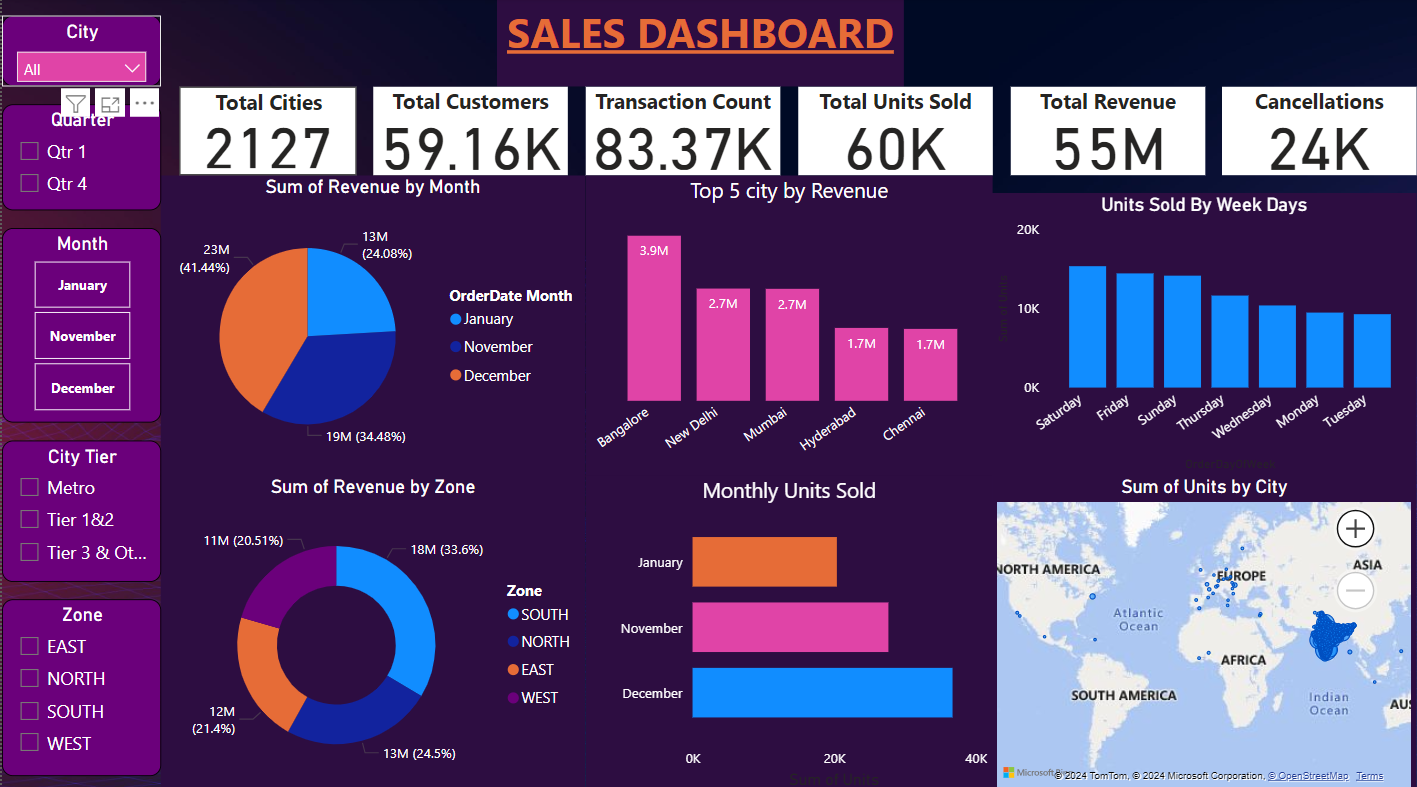

This screenshot's page, from the dashboard's own definition file:
{"tool":"powerbi","page":{"name":"Page 1","canvas":[1280,720],"ordinal":0},"visuals":[{"type":"textbox","box":[448,0,368,80],"z":0},{"type":"pieChart","fields":{"Y":["Sum(Sales Raw.Revenue)"],"Category":["Sales Raw.OrderDate.Variation.Date Hierarchy.Month"]},"box":[144,160,384,272],"z":1000},{"type":"columnChart","title":"Top 5 city by Revenue","fields":{"Y":["Sum(Sales Raw.Revenue)"],"Category":["Mod3_Raw_CityTier_v0 1.City"]},"box":[528,160,368,272],"z":2000},{"type":"card","title":"Total Units Sold","fields":{"Values":["Sum(Sales Raw.Net_Units)"]},"box":[720,80,176,80],"z":3000},{"type":"card","title":"Total Customers","fields":{"Values":["Count(Sales Raw.UserId)"]},"box":[336,80,176,80],"z":4000},{"type":"card","title":"Total Revenue","fields":{"Values":["Sum(Sales Raw.Revenue)"]},"box":[912,80,176,80],"z":5000},{"type":"card","title":"Cancellations","fields":{"Values":["Sum(Sales Raw.Cancelled_Units)"]},"box":[1104,80,176,80],"z":6000},{"type":"donutChart","fields":{"Category":["PinCode-Geo.Zone"],"Y":["Sum(Sales Raw.Revenue)"]},"box":[144,432,384,288],"z":7000},{"type":"map","fields":{"Category":["PinCode-Geo.City"],"Size":["Sum(Sales Raw.Units)"]},"box":[896,432,384,288],"z":8000},{"type":"slicer","title":"Month","fields":{"Values":["Sales Raw.OrderDate.Variation.Date Hierarchy.Month"]},"box":[0,208,144,176],"z":9000},{"type":"barChart","title":"Monthly Units Sold","fields":{"Y":["Sum(Sales Raw.Units)"],"Category":["Sales Raw.OrderDate.Variation.Date Hierarchy.Month"]},"box":[528,432,368,288],"z":10000},{"type":"slicer","title":"Quarter","fields":{"Values":["Sales Raw.OrderDate.Variation.Date Hierarchy.Quarter"]},"box":[0,96,144,96],"z":11000},{"type":"clusteredColumnChart","title":"Units Sold By Week Days","fields":{"Category":["Sales Raw.OrderDayOfWeek"],"Y":["Sum(Sales Raw.Units)"]},"box":[896,176,384,256],"z":12000},{"type":"slicer","title":"City Tier","fields":{"Values":["Mod3_Raw_CityTier_v0 1.CityTier"]},"box":[0,400,144,128],"z":13000},{"type":"slicer","title":"Zone","fields":{"Values":["PinCode-Geo.Zone"]},"box":[0,544,144,160],"z":14000},{"type":"card","title":"Total Cities","fields":{"Values":["Count(PinCode-Geo.City)"]},"box":[160,80,160,80],"z":15000},{"type":"slicer","title":"City","fields":{"Values":["Mod3_Raw_CityTier_v0 1.City"]},"box":[0,16,144,64],"z":16000},{"type":"card","title":"Transaction Count","fields":{"Values":["CountNonNull(Sales Raw.UserId)"]},"box":[528,80,176,80],"z":17000}]}

Visuals, with their boxes in screenshot pixels (x1, y1, x2, y2), scaled from the page's 1280x720 canvas onto the 1417x787 screenshot:
textbox: [496, 0, 903, 87]
pieChart - Sum(Sales Raw.Revenue) x Sales Raw.OrderDate.Variation.Date Hierarchy.Month: [159, 175, 585, 472]
"Top 5 city by Revenue" columnChart: [585, 175, 992, 472]
"Total Units Sold" card: [797, 87, 992, 175]
"Total Customers" card: [372, 87, 567, 175]
"Total Revenue" card: [1010, 87, 1204, 175]
"Cancellations" card: [1222, 87, 1416, 175]
donutChart - PinCode-Geo.Zone x Sum(Sales Raw.Revenue): [159, 472, 585, 786]
map - PinCode-Geo.City x Sum(Sales Raw.Units): [992, 472, 1416, 786]
"Month" slicer: [0, 227, 159, 420]
"Monthly Units Sold" barChart: [585, 472, 992, 786]
"Quarter" slicer: [0, 105, 159, 210]
"Units Sold By Week Days" clusteredColumnChart: [992, 192, 1416, 472]
"City Tier" slicer: [0, 437, 159, 577]
"Zone" slicer: [0, 595, 159, 770]
"Total Cities" card: [177, 87, 354, 175]
"City" slicer: [0, 17, 159, 87]
"Transaction Count" card: [585, 87, 779, 175]
